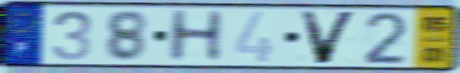2: (363, 10, 409, 66)
3: (50, 9, 94, 62)
4: (233, 9, 278, 65)
8: (103, 8, 150, 64)
H: (165, 8, 227, 64)
V: (296, 9, 361, 66)
